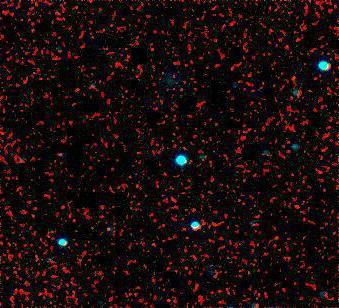star: (279, 63, 309, 93)
